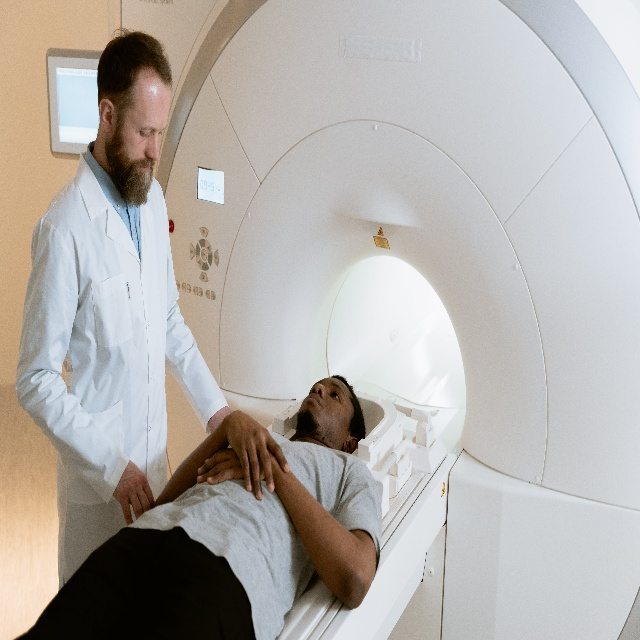Sin_guantes: (227, 406, 291, 502), (195, 441, 268, 490), (112, 460, 157, 523)
